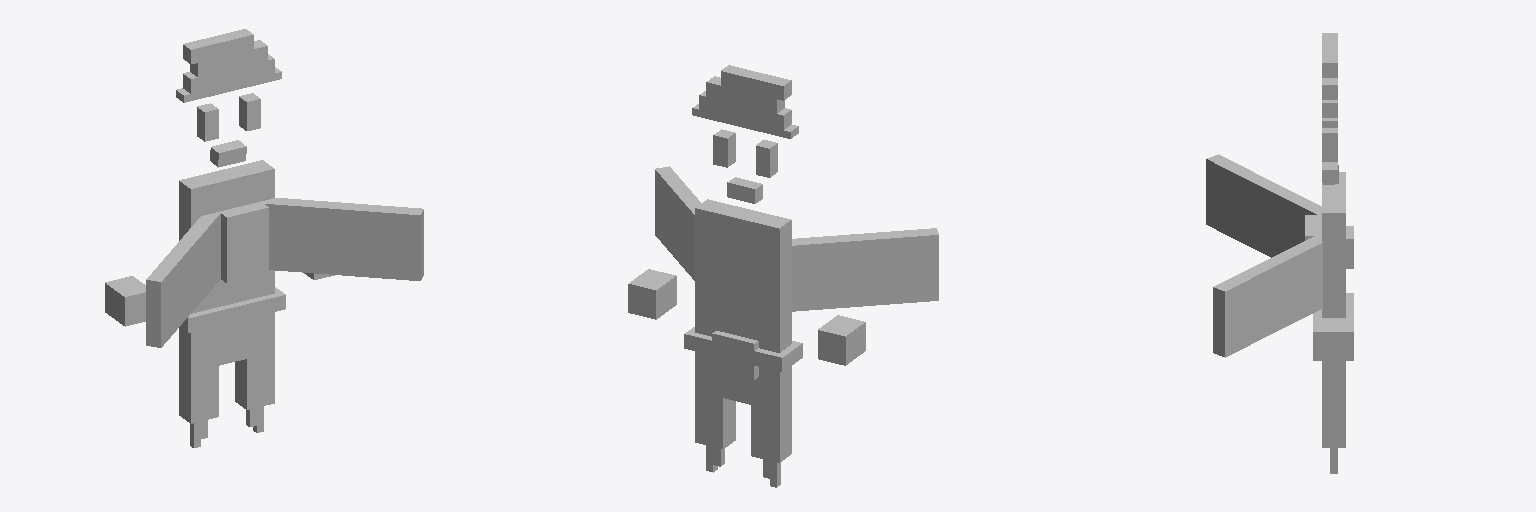
File: Mr.Assassin_wings.obj
3 views of the same model, side by side, from view 1: azimuth 30°, elevation 25°; view 2: azimuth 150°, elevation 25°; view 3: azimuth 270°, elevation 25° (orthographic).
Visible parts, largest first — view 1: cube; view 2: cube; view 3: cube.
Part boxes in pixels (x1,y1,x2,y2): cube: (105,29,423,447); cube: (628,65,938,487); cube: (1206,33,1353,473).
Bounding box in the file's own units: 2.51 × 3.44 × 1.14.